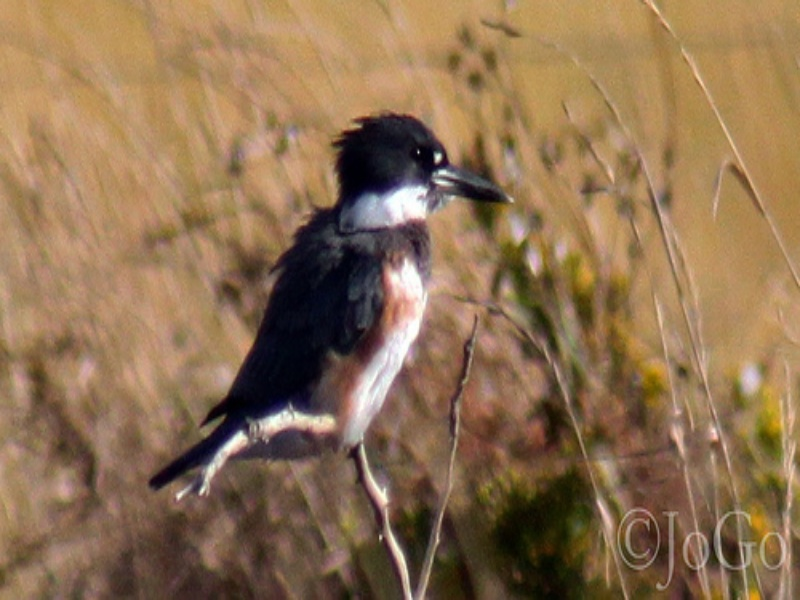kingfisher: (144, 104, 516, 504)
